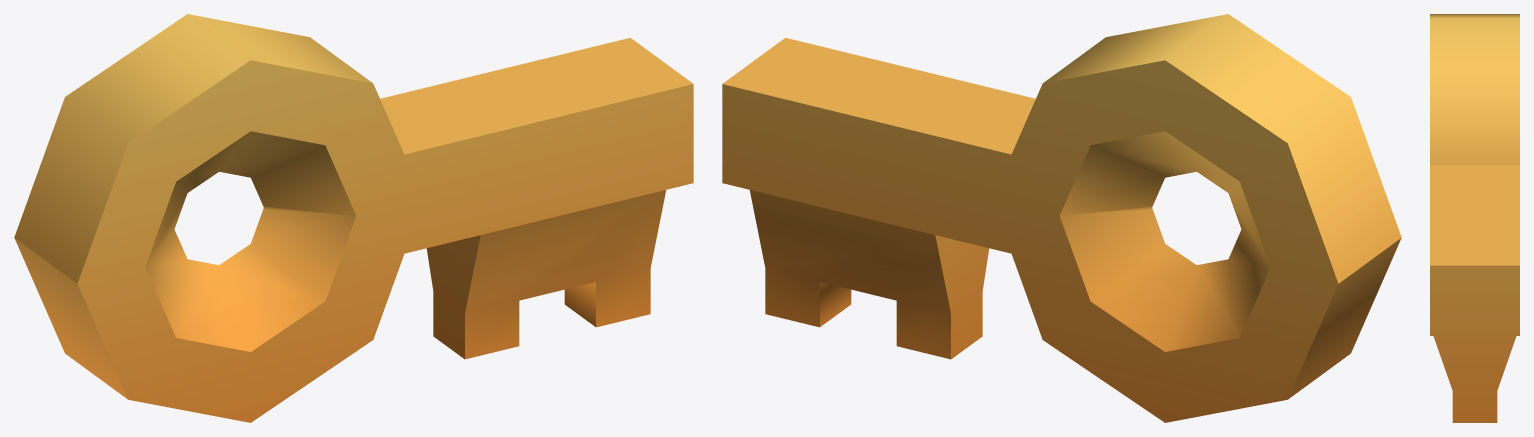
File: key.glb
3 views of the same model, side by side, from view 1: azimuth 30°, elevation 25°; view 2: azimuth 150°, elevation 25°; view 3: azimuth 270°, elevation 25° (orthographic). The views are drawn at different scales.
Parts seen in each view (by area): view 1: key; view 2: key; view 3: key.
Boxes of the visible parts, box(x1,y1,x2,y2) form: key: box(14, 14, 693, 422); key: box(722, 14, 1401, 422); key: box(1430, 14, 1519, 422).
Bounding box in the file's own units: 0.3817 × 0.2172 × 0.0678.
1 material, 1 textured.
